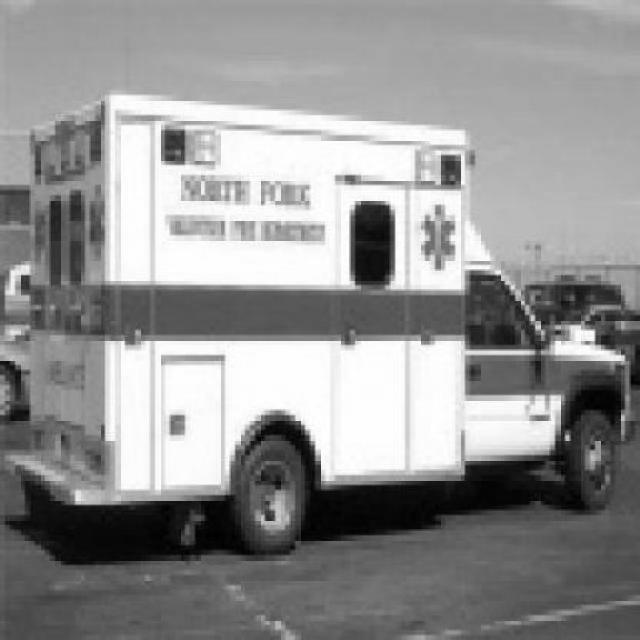Ambulance: (3, 94, 640, 556)
